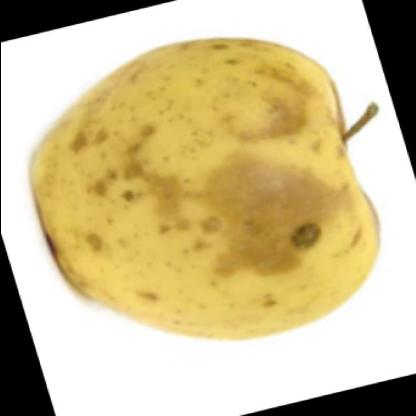defect: (190, 154, 354, 314), (64, 83, 198, 265), (175, 34, 334, 170)
